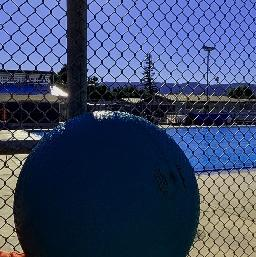algae: (12, 109, 200, 257)
